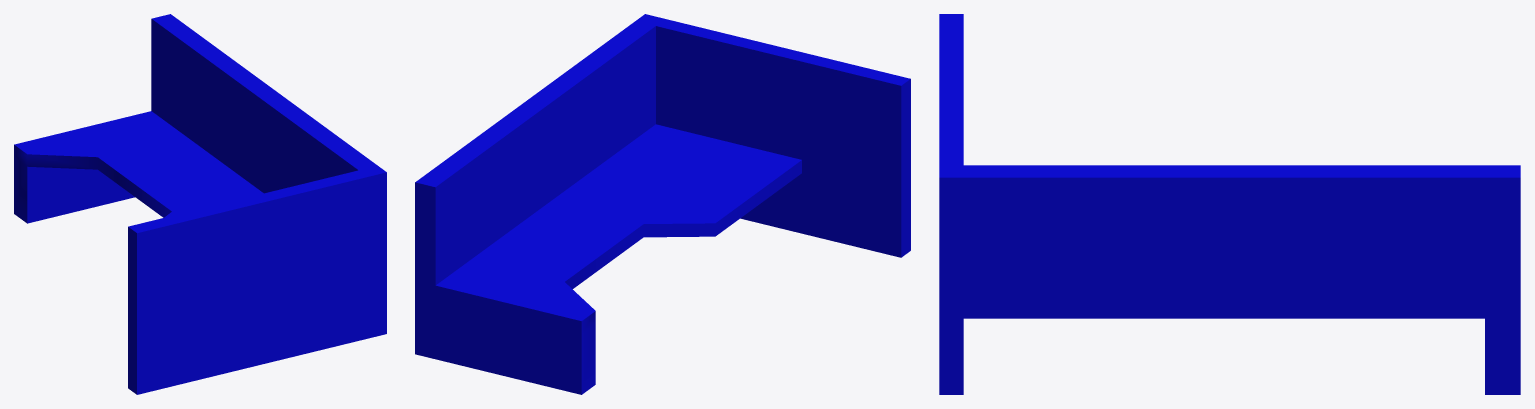
Rendered from MOD_Desk.fbx.
3 renders of one model, left to right at view 1: azimuth 30°, elevation 25°; view 2: azimuth 150°, elevation 25°; view 3: azimuth 270°, elevation 25°, orthographic. The views are drawn at different scales.
Visible parts, largest first — view 1: Desk; view 2: Desk; view 3: Desk.
Boxes of the visible parts, bbox=[...] form: Desk: bbox=[14, 14, 386, 394]; Desk: bbox=[415, 14, 910, 394]; Desk: bbox=[939, 14, 1520, 394].
Bounding box in the file's own units: 397 × 245 × 595.
